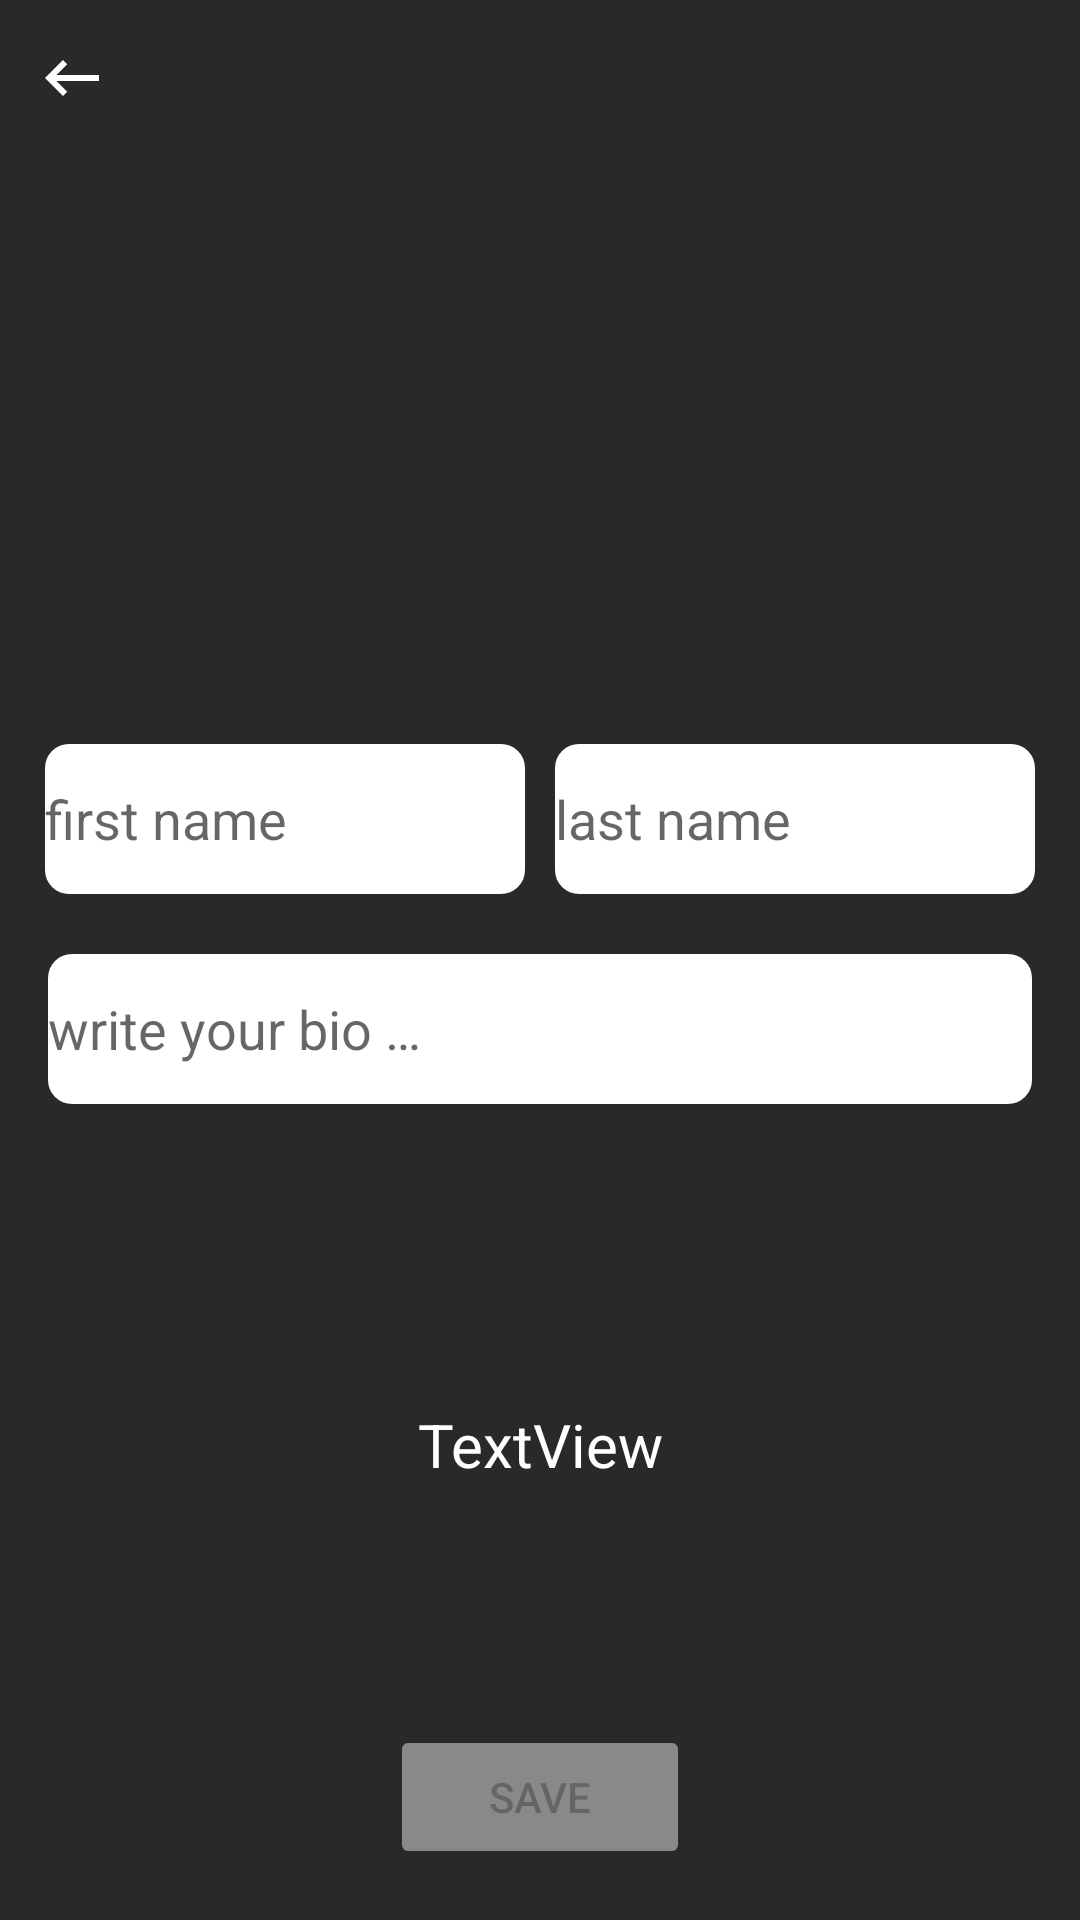

Screen size 1080w x 1920h. Icon name, then its box in pixels as (x1, y1, x2, y2):
keyboard backspace: (45, 60, 99, 96)
